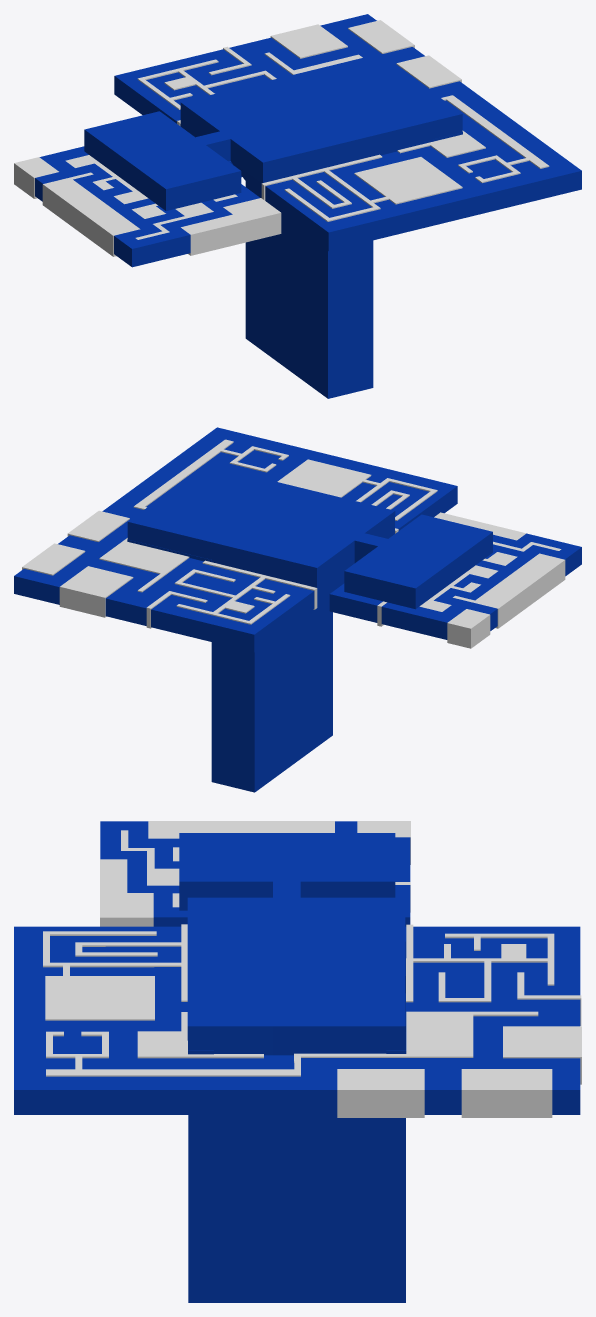
Rendered from level2.fbx.
3 views of the same model, one above another, from view 1: azimuth 30°, elevation 25°; view 2: azimuth 150°, elevation 25°; view 3: azimuth 270°, elevation 25° (orthographic). The views are drawn at different scales.
Visible parts, largest first — view 1: Cube.001, Plane.018, Plane.033, Cube.016, Cube.002, Cube.005, Plane.002, Cube.003, Cube.004, Plane.040, Cube.010, Plane.001 (+1 smaller); view 2: Cube.001, Cube.002, Plane.033, Plane.018, Cube.005, Plane.002, Cube.010, Cube.003, Cube.004, Plane.027, Cube.016, Plane.040; view 3: Cube.001, Plane.018, Cube.002, Cube.003, Cube.004, Plane.002, Cube.016, Cube.005, Plane.033, Plane.001, Plane.040, Cube.010.
Boxes of the visible parts, box(x1,y1,x2,y2) form: Cube.001: box(35, 14, 581, 398); Plane.018: box(261, 154, 462, 221); Plane.033: box(42, 172, 140, 256); Cube.016: box(181, 198, 281, 255); Cube.002: box(264, 52, 549, 182); Cube.005: box(270, 24, 347, 58); Plane.002: box(137, 59, 276, 125); Cube.003: box(348, 20, 414, 53); Cube.004: box(396, 55, 461, 88); Plane.040: box(132, 194, 237, 239); Cube.010: box(14, 157, 58, 198); Plane.001: box(397, 130, 485, 157); Cube.001: box(14, 427, 581, 792); Cube.002: box(99, 439, 288, 592); Plane.033: box(453, 553, 565, 628); Plane.018: box(277, 459, 437, 533); Cube.005: box(59, 566, 133, 617); Plane.002: box(174, 560, 317, 624); Cube.010: box(447, 609, 490, 648); Cube.003: box(22, 543, 85, 575); Cube.004: box(67, 510, 129, 541); Plane.027: box(419, 565, 497, 611); Cube.016: box(434, 512, 525, 540); Plane.040: box(482, 541, 561, 565); Cube.001: box(14, 821, 580, 1302); Plane.018: box(43, 924, 187, 1020); Cube.002: box(46, 1011, 538, 1076); Cube.003: box(461, 1069, 552, 1117); Cube.004: box(337, 1069, 424, 1117); Plane.002: box(406, 924, 554, 1002); Cube.016: box(100, 859, 153, 926); Cube.005: box(503, 1026, 581, 1084); Plane.033: box(148, 821, 334, 838); Plane.001: box(137, 1012, 263, 1058); Plane.040: box(121, 830, 179, 907); Cube.010: box(357, 821, 410, 864).
Bounding box in the file's own units: 9383 × 5388 × 8309.
